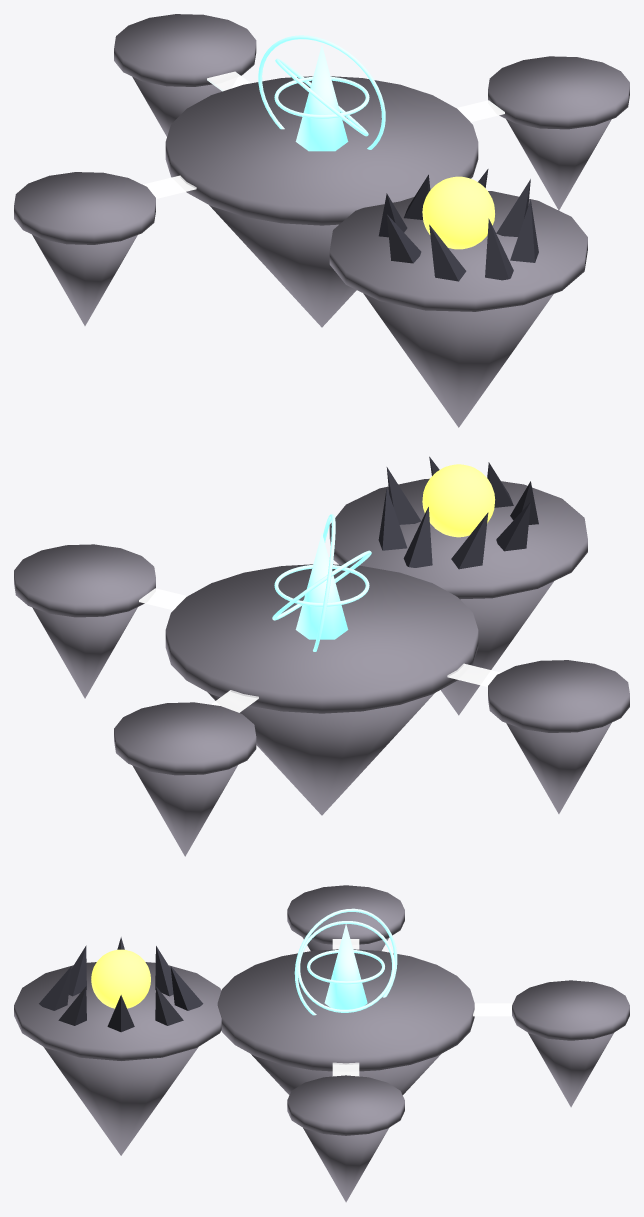
The model's file is icarus_aethel.glb.
3 renders of one model, top to bottom at view 1: azimuth 30°, elevation 25°; view 2: azimuth 150°, elevation 25°; view 3: azimuth 270°, elevation 25°, orthographic. The views are drawn at different scales.
Visible parts, largest first — view 1: Icarus_MainPlateau, Icarus_SatIsland_S, Icarus_SatIsland_S_Cone, Icarus_SatIsland_W, Icarus_SatIsland_E, Icarus_SatIsland_N, Icarus_InvertedCone, Icarus_SatIsland_W_Cone, Icarus_SatIsland_E_Cone, Icarus_CosmicFireVortex, Icarus_AetheriteMonolith, Icarus_SatIsland_N_Cone (+10 smaller); view 2: Icarus_MainPlateau, Icarus_SatIsland_S, Icarus_InvertedCone, Icarus_SatIsland_N, Icarus_SatIsland_W, Icarus_SatIsland_E, Icarus_SatIsland_W_Cone, Icarus_SatIsland_N_Cone, Icarus_SatIsland_E_Cone, Icarus_SatIsland_S_Cone, Icarus_CosmicFireVortex, Icarus_AetheriteMonolith (+11 smaller); view 3: Icarus_MainPlateau, Icarus_SatIsland_S, Icarus_SatIsland_S_Cone, Icarus_SatIsland_E, Icarus_SatIsland_N, Icarus_SatIsland_W, Icarus_SatIsland_N_Cone, Icarus_SatIsland_E_Cone, Icarus_CosmicFireVortex, Icarus_InvertedCone, Icarus_AetheriteMonolith, Icarus_GyroRing_2 (+10 smaller).
Part boxes in pixels (x1,y1,x2,y2): Icarus_MainPlateau: (165,76,478,225); Icarus_SatIsland_S: (329,191,587,311); Icarus_SatIsland_S_Cone: (363,293,553,427); Icarus_SatIsland_W: (14,172,155,244); Icarus_SatIsland_E: (488,56,629,129); Icarus_SatIsland_N: (114,14,256,86); Icarus_InvertedCone: (209,205,356,327); Icarus_SatIsland_W_Cone: (32,234,137,325); Icarus_SatIsland_E_Cone: (506,119,611,210); Icarus_CosmicFireVortex: (422,176,494,249); Icarus_AetheriteMonolith: (295,45,348,151); Icarus_SatIsland_N_Cone: (132,77,221,136); Icarus_MainPlateau: (165,564,478,713); Icarus_SatIsland_S: (329,478,587,599); Icarus_InvertedCone: (207,692,434,815); Icarus_SatIsland_N: (114,702,256,775); Icarus_SatIsland_W: (488,660,629,732); Icarus_SatIsland_E: (14,544,155,617); Icarus_SatIsland_W_Cone: (506,722,611,813); Icarus_SatIsland_N_Cone: (132,765,237,856); Icarus_SatIsland_E_Cone: (32,607,137,698); Icarus_SatIsland_S_Cone: (441,581,553,715); Icarus_CosmicFireVortex: (422,464,495,537); Icarus_AetheriteMonolith: (295,533,348,639); Icarus_MainPlateau: (217,949,474,1071); Icarus_SatIsland_S: (14,962,221,1060); Icarus_SatIsland_S_Cone: (44,1047,198,1155); Icarus_SatIsland_E: (287,1075,404,1135); Icarus_SatIsland_N: (512,980,629,1040); Icarus_SatIsland_W: (287,885,404,944); Icarus_SatIsland_N_Cone: (528,1033,613,1107); Icarus_SatIsland_E_Cone: (303,1128,388,1202); Icarus_CosmicFireVortex: (91,949,150,1008); Icarus_InvertedCone: (251,1054,440,1095); Icarus_AetheriteMonolith: (324,923,367,1009); Icarus_GyroRing_2: (298,921,395,1012).
Bounding box in the file's own units: 53 × 24.97 × 57.5.
